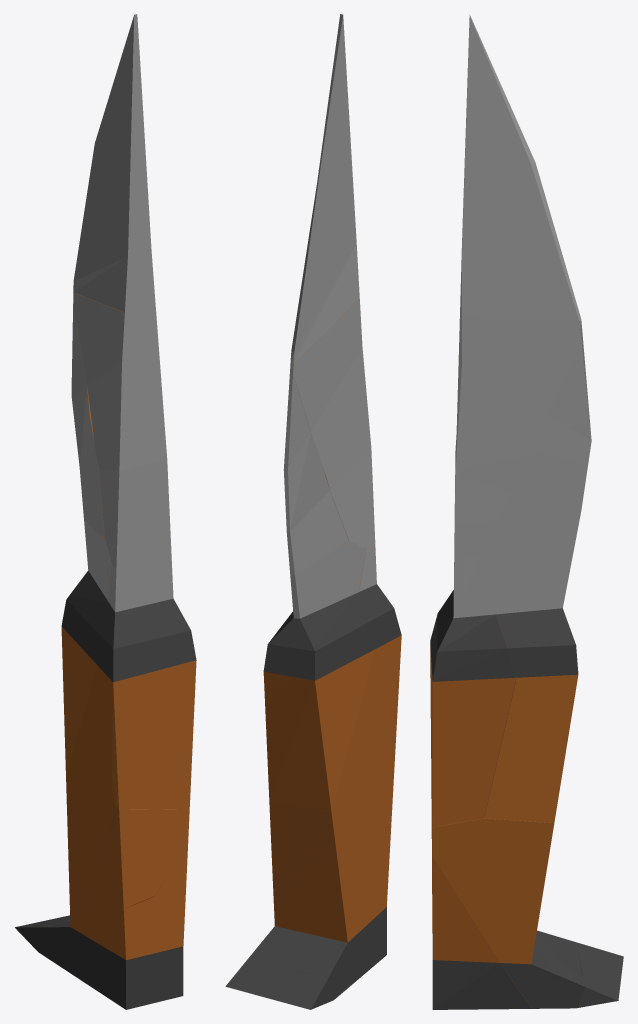
Rendered from knife.fbx.
The picture shows the model from 3 angles, left to right: view 1: azimuth 30°, elevation 25°; view 2: azimuth 150°, elevation 25°; view 3: azimuth 270°, elevation 25°; orthographic projection. The views are drawn at different scales.
Visible parts, largest first — view 1: Plane, Plane_cell.007, Plane_cell.008, Plane_cell.006, Plane_cell, Plane_cell.001, Plane_cell.009, Plane_cell.005, Plane_cell.004, Plane_cell.003; view 2: Plane, Plane_cell.008, Plane_cell, Plane_cell.006, Plane_cell.004, Plane_cell.005, Plane_cell.009, Plane_cell.002, Plane_cell.007; view 3: Plane, Plane_cell.009, Plane_cell.006, Plane_cell, Plane_cell.008, Plane_cell.007, Plane_cell.003, Plane_cell.004, Plane_cell.005, Plane_cell.002.
Part boxes in pixels (x1,y1,x2,y2): Plane: (15, 14, 193, 1009); Plane_cell.007: (108, 536, 196, 809); Plane_cell.008: (73, 292, 170, 570); Plane_cell.006: (43, 807, 189, 947); Plane_cell: (61, 600, 97, 775); Plane_cell.001: (123, 896, 154, 1009); Plane_cell.009: (73, 173, 151, 312); Plane_cell.005: (71, 303, 104, 538); Plane_cell.004: (69, 519, 111, 632); Plane_cell.003: (155, 842, 187, 1002); Plane: (226, 15, 401, 1009); Plane_cell.008: (293, 299, 375, 548); Plane_cell: (263, 625, 375, 811); Plane_cell.006: (258, 803, 388, 976); Plane_cell.004: (265, 541, 366, 661); Plane_cell.005: (283, 374, 348, 575); Plane_cell.009: (291, 14, 359, 362); Plane_cell.002: (225, 963, 328, 986); Plane_cell.007: (358, 545, 401, 759); Plane: (432, 18, 623, 1009); Plane_cell.009: (462, 14, 581, 330); Plane_cell.006: (431, 782, 584, 1008); Plane_cell: (484, 674, 578, 822); Plane_cell.008: (454, 318, 580, 542); Plane_cell.007: (430, 554, 515, 827); Plane_cell.003: (432, 858, 531, 1009); Plane_cell.004: (496, 608, 577, 680); Plane_cell.005: (483, 344, 591, 555); Plane_cell.002: (576, 943, 619, 1007).
Size of the model in its own units: 91.59 by 942 by 169.
